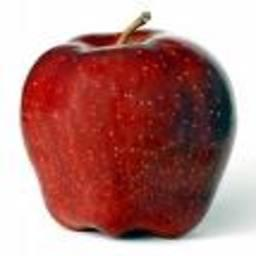apple: (18, 27, 238, 238)
